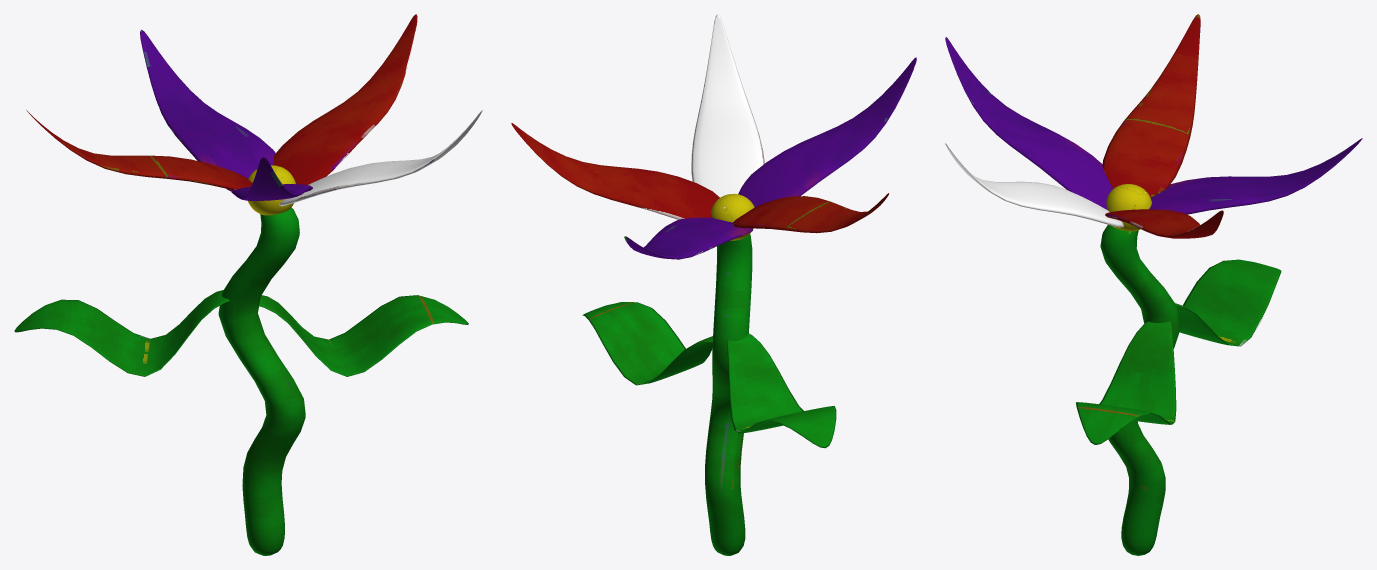
File: Rose.glb
3 views of the same model, side by side, from view 1: azimuth 30°, elevation 25°; view 2: azimuth 150°, elevation 25°; view 3: azimuth 270°, elevation 25° (orthographic). The views are drawn at different scales.
Parts seen in each view (by area): view 1: Cube.001; view 2: Cube.001; view 3: Cube.001.
Part boxes in pixels (left/top/right/bottom): Cube.001: left=14, top=14, right=482, bottom=555; Cube.001: left=511, top=14, right=916, bottom=555; Cube.001: left=945, top=14, right=1362, bottom=555.
Bounding box in the file's own units: 2.04 × 2.42 × 1.95.
Materials: 1 (1 with a texture image).
